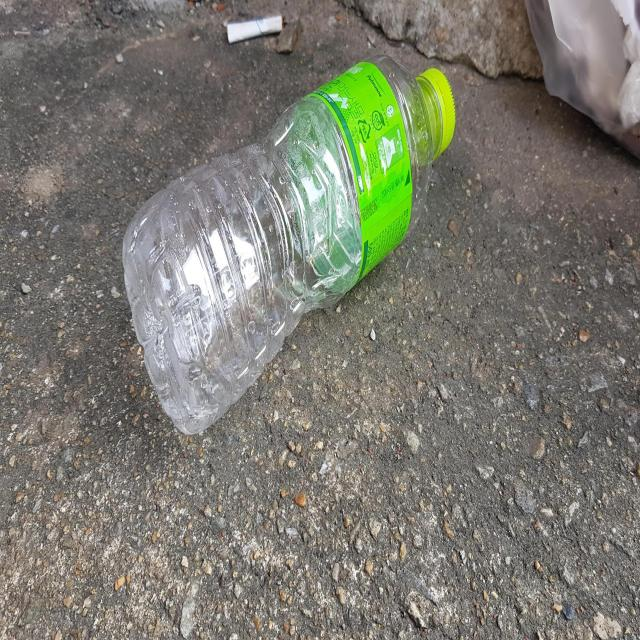plastic: (122, 55, 455, 434)
